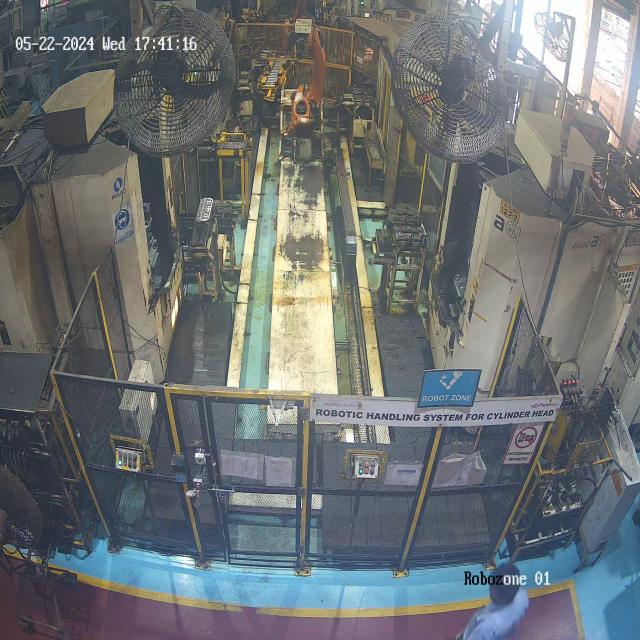person: (453, 555, 535, 640)
